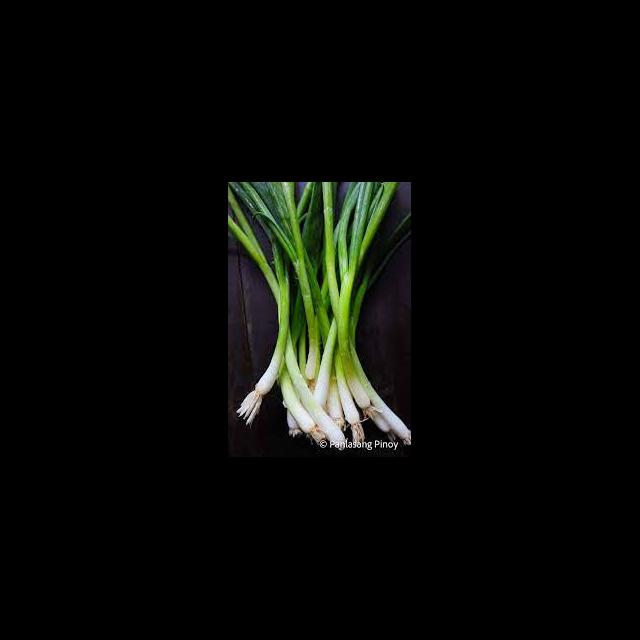green_onion: (249, 182, 411, 439)
